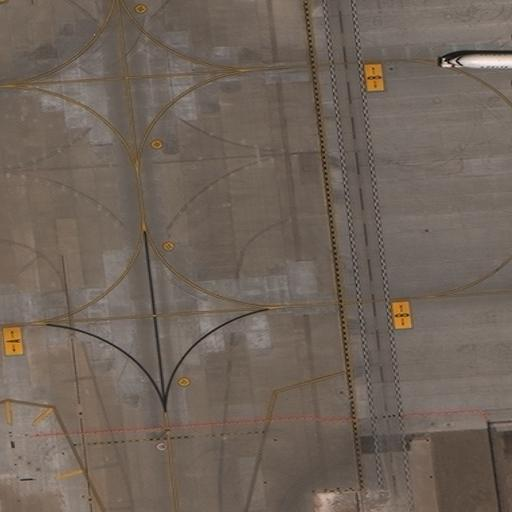Large Civil Transport: (446, 26, 512, 95)
